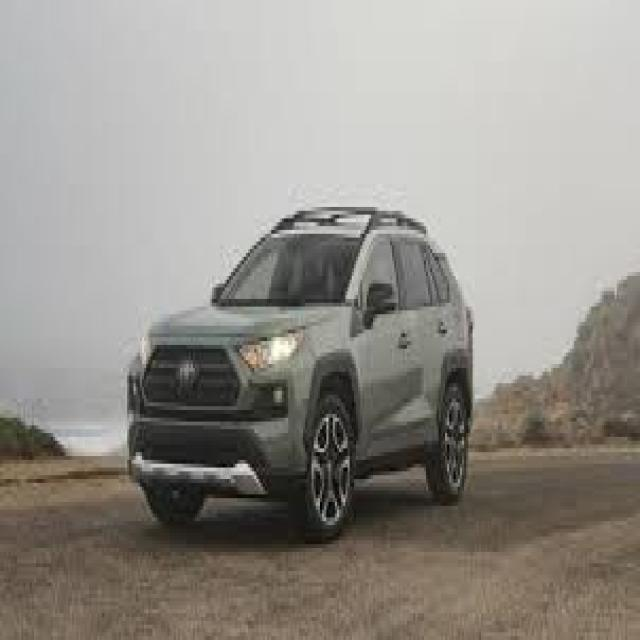light_vehicle: (125, 207, 475, 544)
